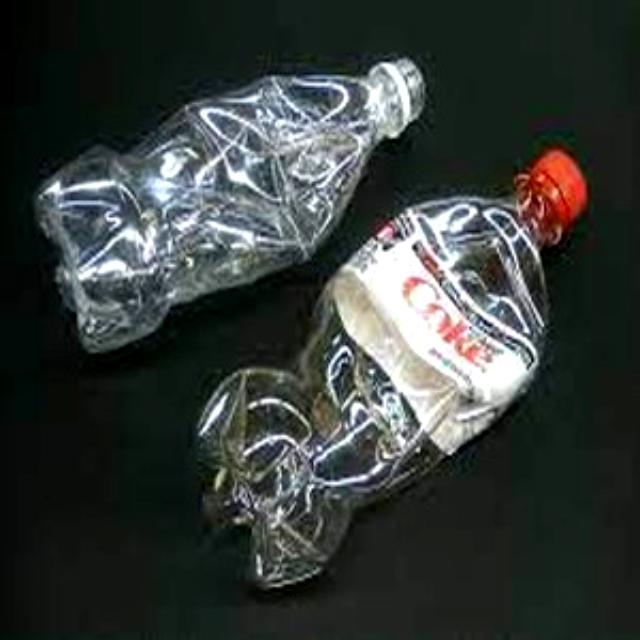Plastic: (198, 148, 600, 586), (26, 58, 422, 352)
